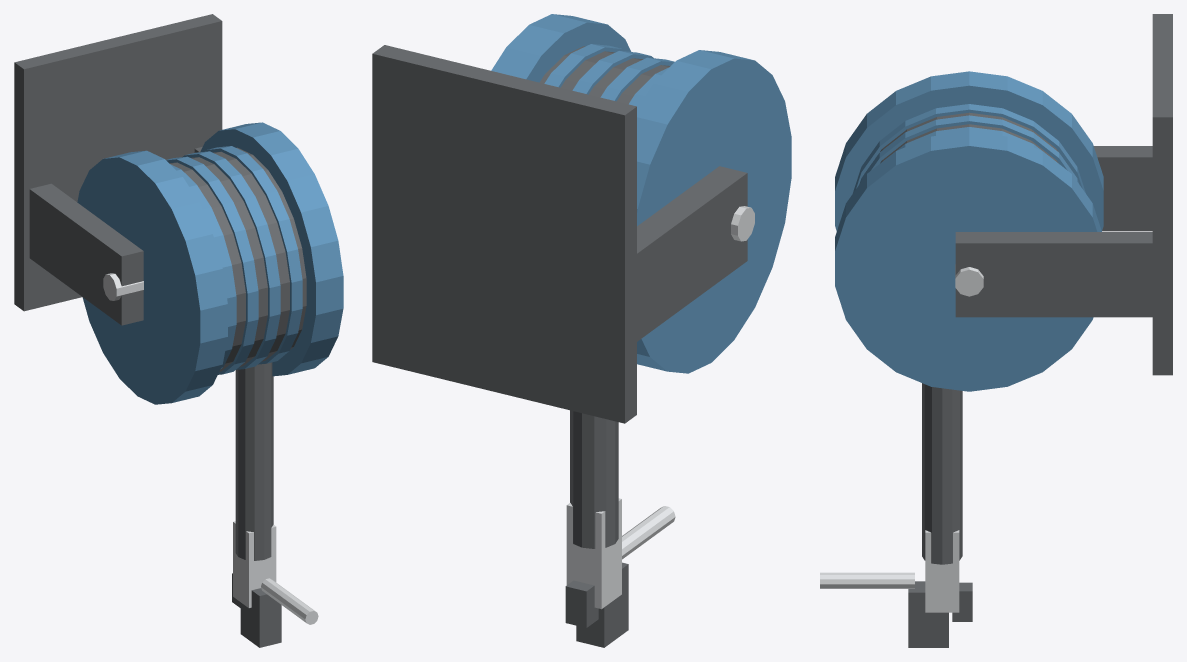
Rendered from car-repair-garage-and-mot-workshop-car-repair-garage-a-9d43e698__34013.glb.
3 views of the same model, side by side, from view 1: azimuth 30°, elevation 25°; view 2: azimuth 150°, elevation 25°; view 3: azimuth 270°, elevation 25° (orthographic). The views are drawn at different scales.
Visible parts, largest first — view 1: car-repair-garage-and-mot-workshop-air-line-reel, reel-spin/blue, reel-spin/charcoal; view 2: car-repair-garage-and-mot-workshop-air-line-reel, reel-spin/blue, reel-spin/charcoal; view 3: reel-spin/blue, car-repair-garage-and-mot-workshop-air-line-reel, reel-spin/charcoal.
Part boxes in pixels (x1=…): car-repair-garage-and-mot-workshop-air-line-reel: x1=14, y1=14, x2=318, y2=647; reel-spin/blue: x1=77, y1=122, x2=343, y2=404; reel-spin/charcoal: x1=169, y1=147, x2=306, y2=371; car-repair-garage-and-mot-workshop-air-line-reel: x1=372, y1=45, x2=754, y2=647; reel-spin/blue: x1=491, y1=14, x2=791, y2=373; reel-spin/charcoal: x1=539, y1=46, x2=670, y2=104; reel-spin/blue: x1=835, y1=71, x2=1103, y2=391; car-repair-garage-and-mot-workshop-air-line-reel: x1=820, y1=14, x2=1172, y2=647; reel-spin/charcoal: x1=880, y1=112, x2=1058, y2=163.
Bounding box in the file's own units: 0.36 × 0.91 × 0.52.
